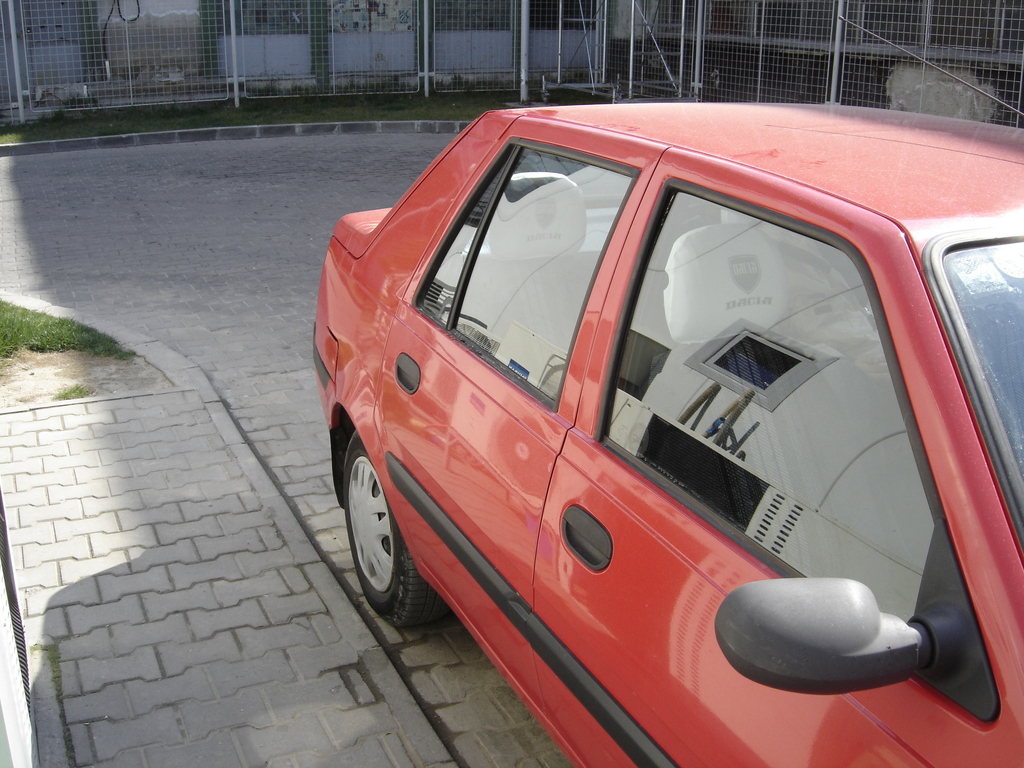Car: (309, 13, 1023, 767)
